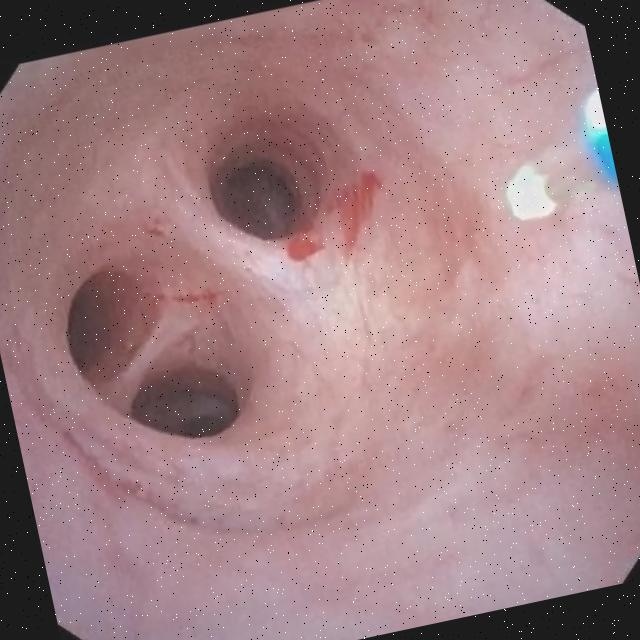laser-fibre: (504, 129, 602, 220)
